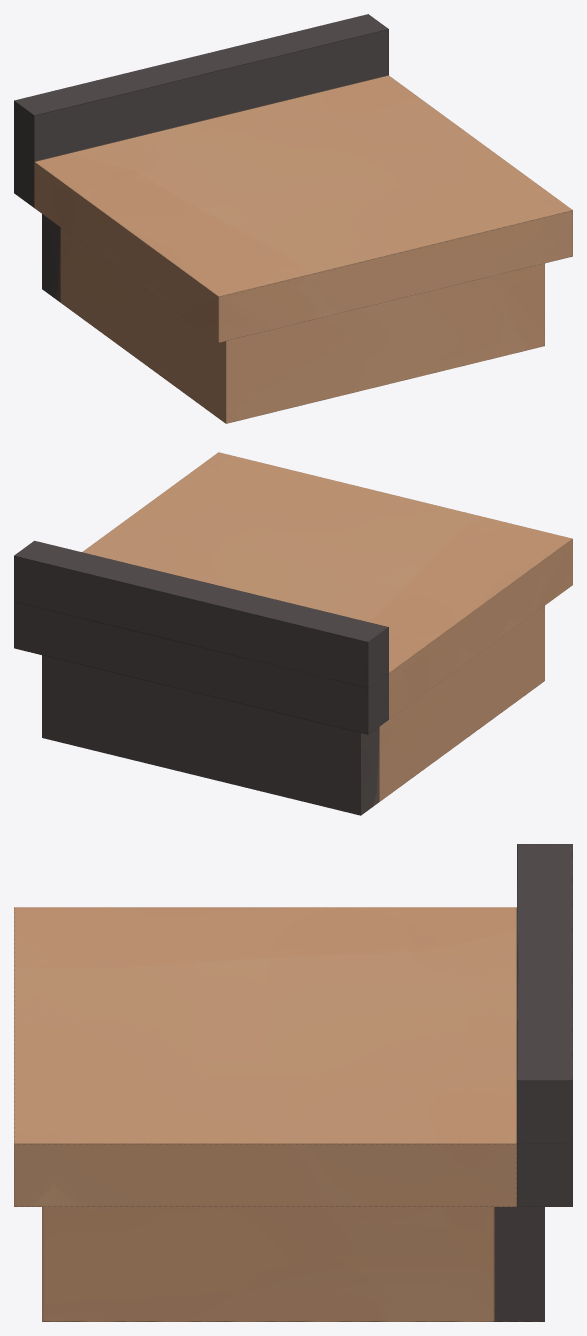
Rendered from werkbank.gltf.
3 views of the same model, one above another, from view 1: azimuth 30°, elevation 25°; view 2: azimuth 150°, elevation 25°; view 3: azimuth 270°, elevation 25° (orthographic). The views are drawn at different scales.
Parts seen in each view (by area): view 1: Cube; view 2: Cube; view 3: Cube.
Boxes of the visible parts, left/top/right/bottom form: Cube: left=14, top=14, right=572, bottom=423; Cube: left=14, top=452, right=572, bottom=815; Cube: left=14, top=844, right=572, bottom=1321.
Bounding box in the file's own units: 2 × 1 × 2.
1 material, 1 textured.
